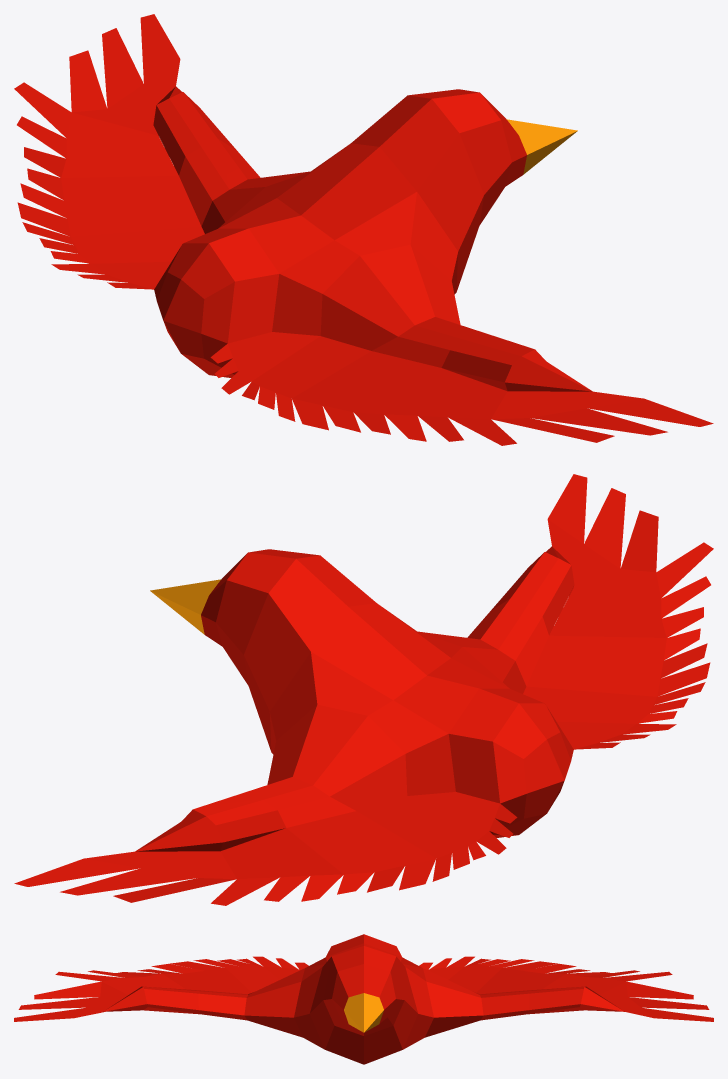
Rendered from bird.fbx.
The picture shows the model from 3 angles, top to bottom: view 1: azimuth 30°, elevation 25°; view 2: azimuth 150°, elevation 25°; view 3: azimuth 270°, elevation 25°; orthographic projection. The views are drawn at different scales.
Visible parts, largest first — view 1: Cylinder; view 2: Cylinder; view 3: Cylinder.
Boxes of the visible parts, x1,y1,x2,y2 form: Cylinder: [14, 14, 713, 445]; Cylinder: [14, 474, 713, 905]; Cylinder: [14, 934, 713, 1064].
Size of the model in its own units: 2043 by 1091 by 4520.
